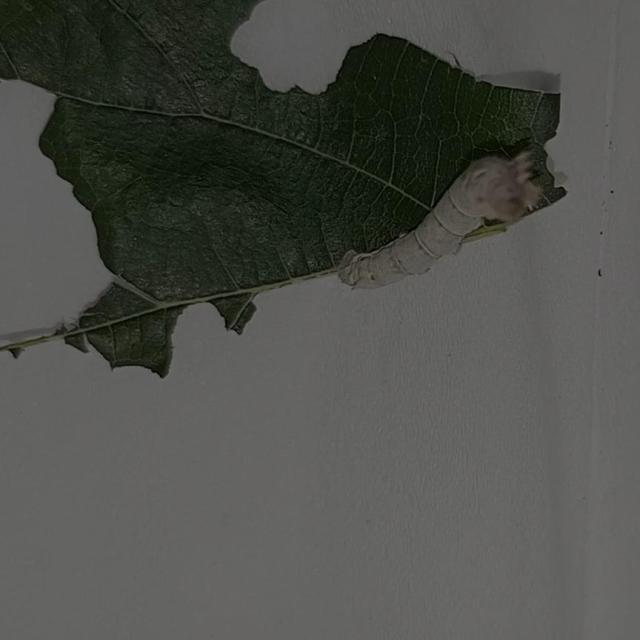Healthy: (333, 146, 551, 304)
